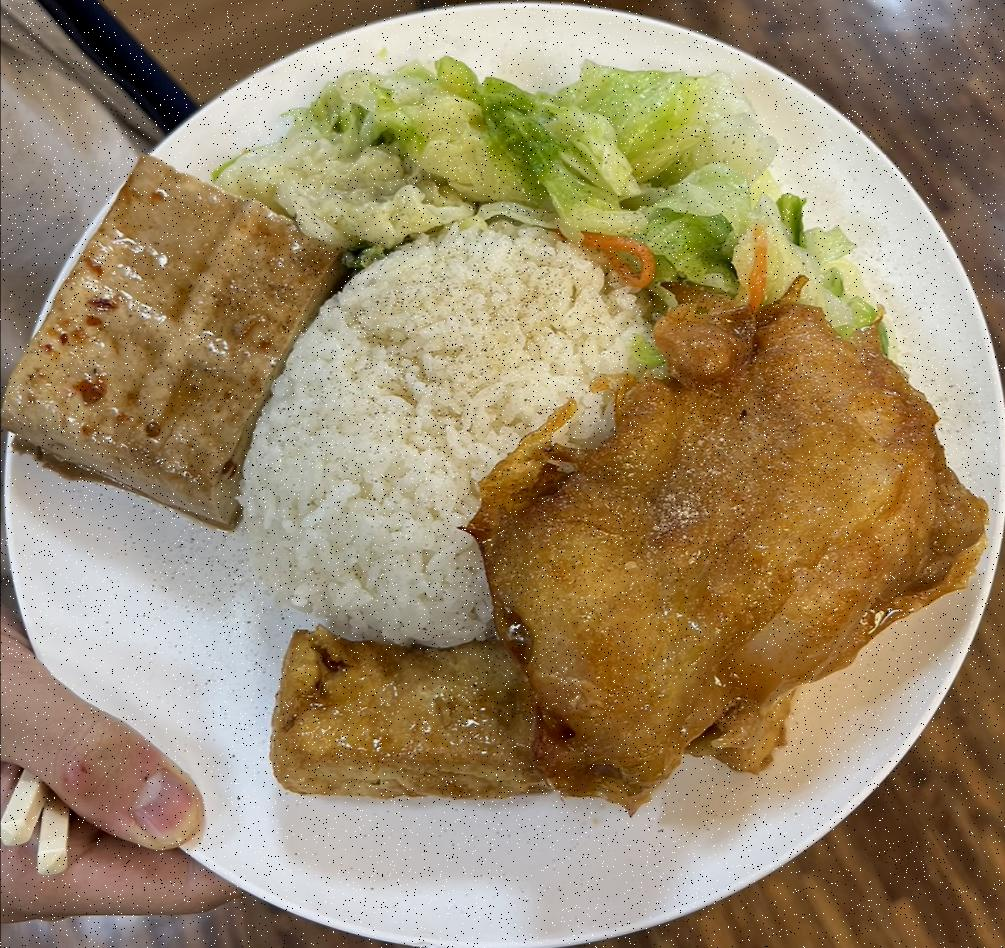big fried chicken leg: (0, 0, 1001, 948)
big herbal chicken leg: (240, 232, 665, 642)
braised fish fillet: (243, 60, 866, 344), (0, 146, 347, 524), (271, 623, 566, 807)
braised pork: (479, 309, 984, 804)
